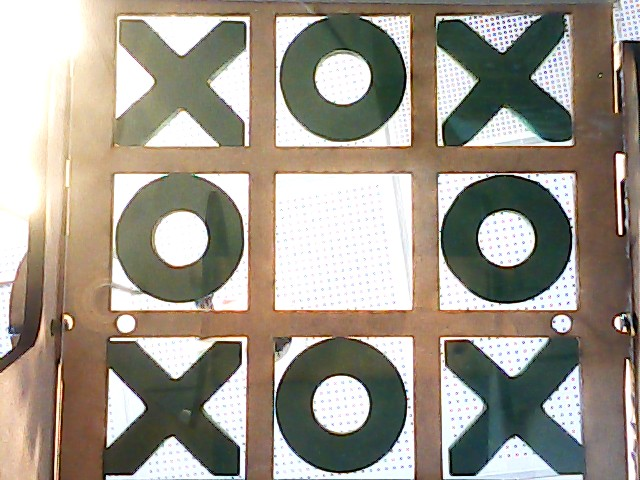O: (274, 339, 414, 475), (441, 175, 578, 308), (115, 176, 245, 310), (279, 16, 407, 143)
X: (442, 338, 582, 479), (109, 339, 245, 477), (437, 18, 574, 145), (116, 18, 249, 148)
